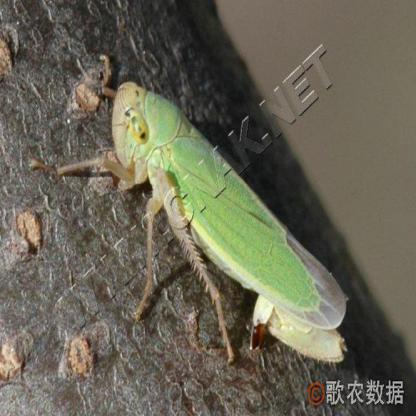Green-Leafhopper: (56, 69, 356, 364)
